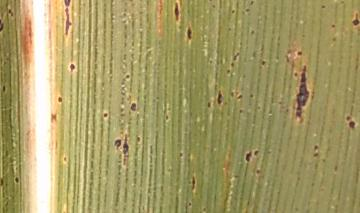tarspot: (293, 63, 311, 123), (62, 8, 73, 38), (172, 1, 182, 23), (123, 134, 132, 155), (214, 90, 225, 106), (350, 12, 360, 29), (186, 22, 193, 44), (127, 100, 139, 112), (66, 60, 77, 73), (113, 137, 123, 151), (346, 120, 357, 131), (54, 94, 65, 104), (11, 175, 22, 185), (100, 109, 109, 121), (242, 151, 251, 163), (294, 49, 305, 58), (259, 58, 268, 69), (124, 71, 132, 83), (62, 1, 75, 8), (251, 148, 262, 156)
